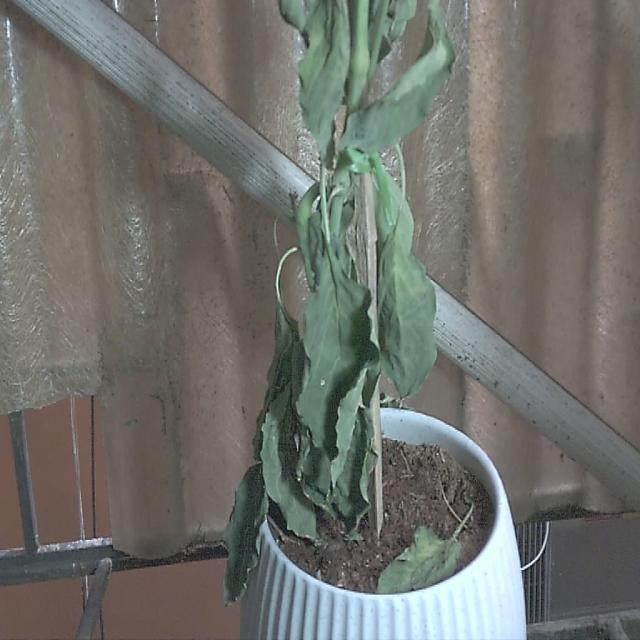Leaf: (296, 250, 380, 490), (376, 227, 439, 396), (300, 2, 350, 169), (221, 464, 268, 607)
